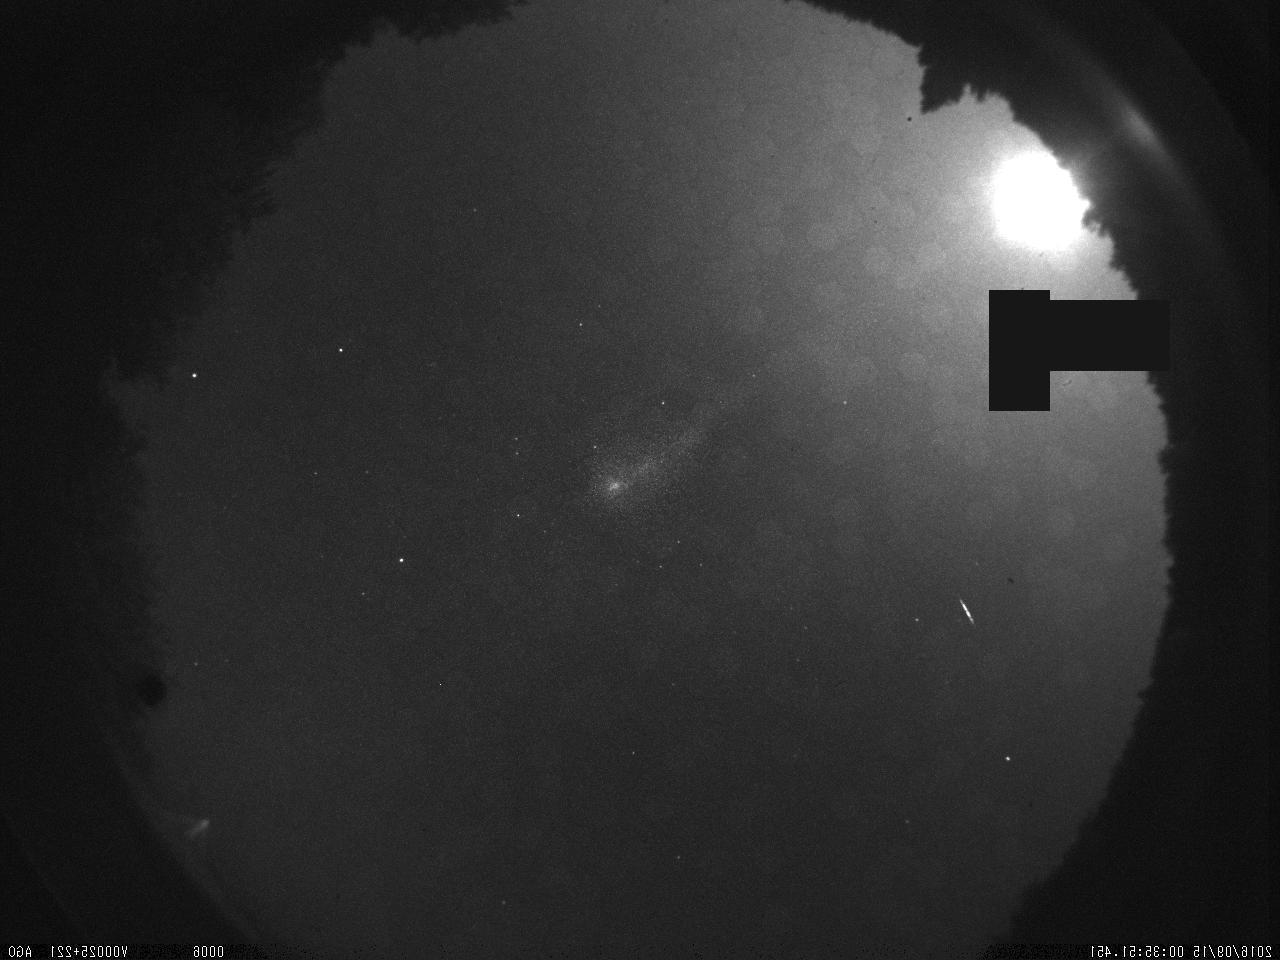meteor: (952, 590, 979, 631)
